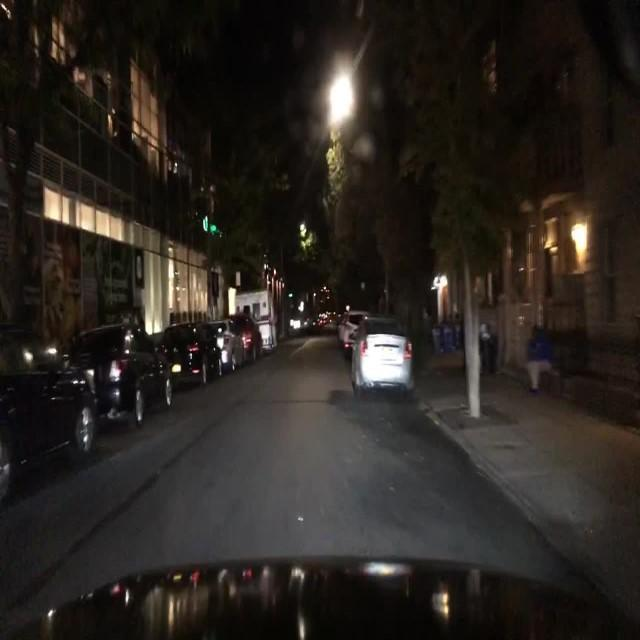normal: (0, 369, 99, 479), (72, 328, 176, 432), (346, 325, 414, 398), (157, 321, 223, 385)
